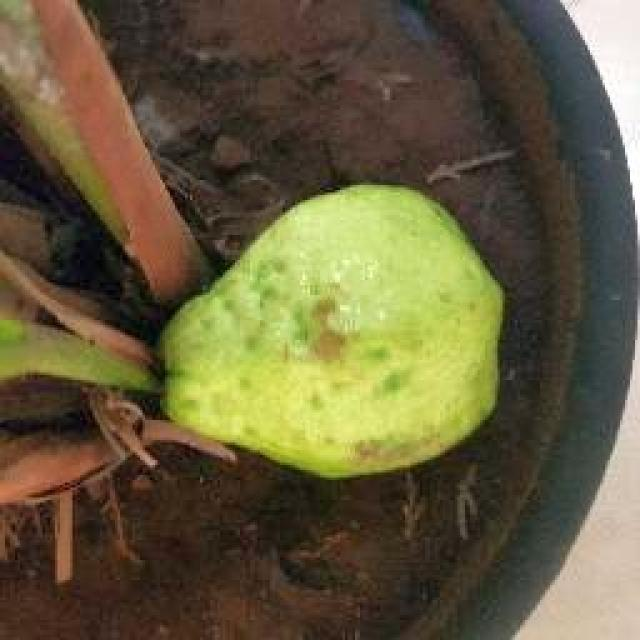Good_Guava: (158, 182, 505, 482)
